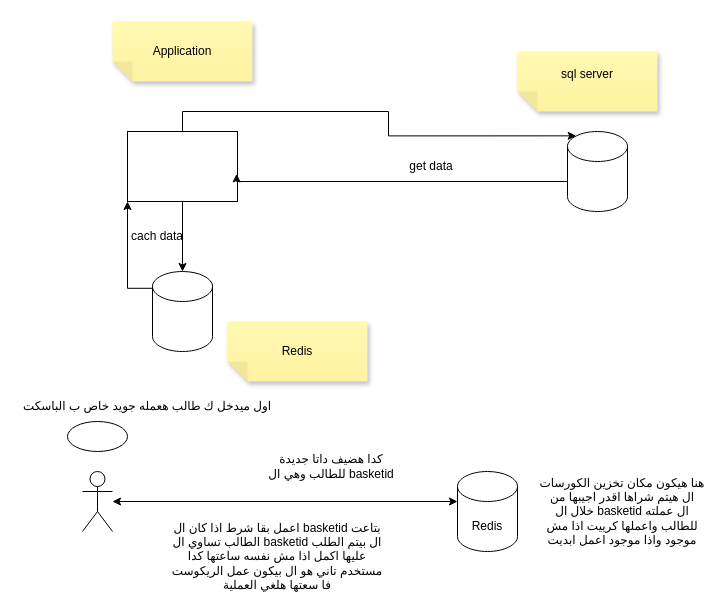
Some shapes in this 724 by 609 pixel diagram are drawn without their labels. The shapes that lost their labels are listed below. From the top down, each one's centre as x and y in pixels, then its label:
At [97,436]: "basketid".
At [97,501]: "student".
